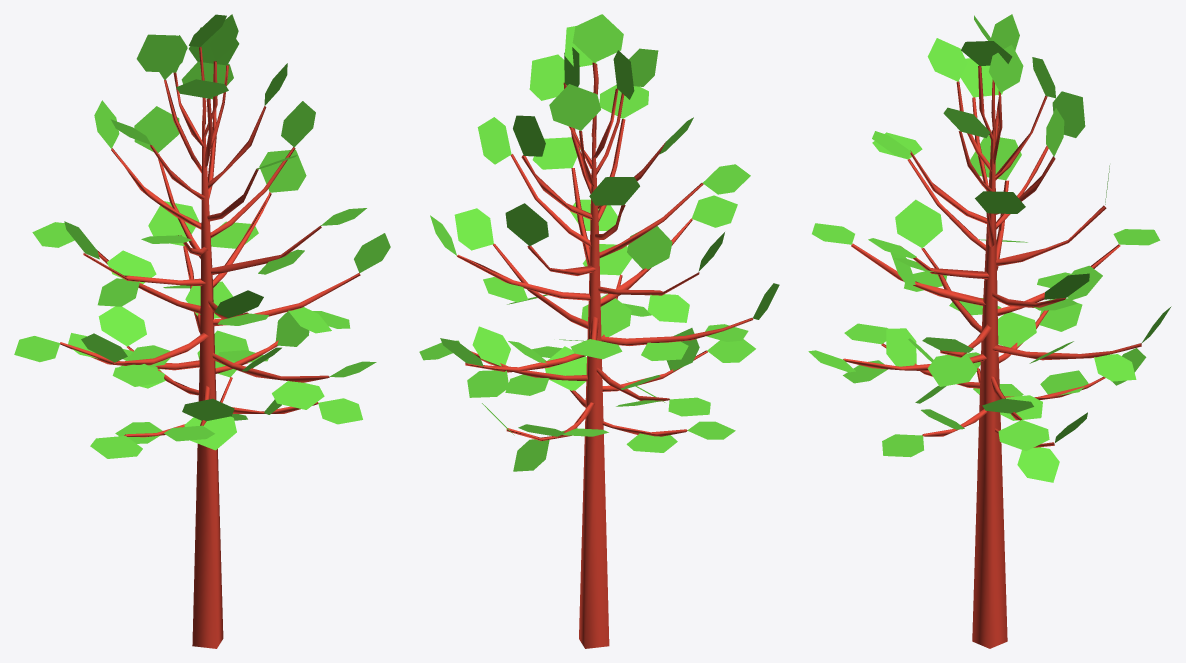
File: Tree.fbx
The picture shows the model from 3 angles, left to right: view 1: azimuth 30°, elevation 25°; view 2: azimuth 150°, elevation 25°; view 3: azimuth 270°, elevation 25°; orthographic projection.
Parts seen in each view (by area): view 1: leaves, tree.001; view 2: leaves, tree.001; view 3: leaves, tree.001.
Part boxes in pixels (x1=…): leaves: x1=14, y1=14, x2=390, y2=458; tree.001: x1=60, y1=47, x2=360, y2=648; leaves: x1=419, y1=14, x2=779, y2=471; tree.001: x1=457, y1=62, x2=753, y2=648; leaves: x1=808, y1=14, x2=1171, y2=482; tree.001: x1=843, y1=65, x2=1141, y2=648.
Bounding box in the file's own units: 598 × 1149 × 605.
